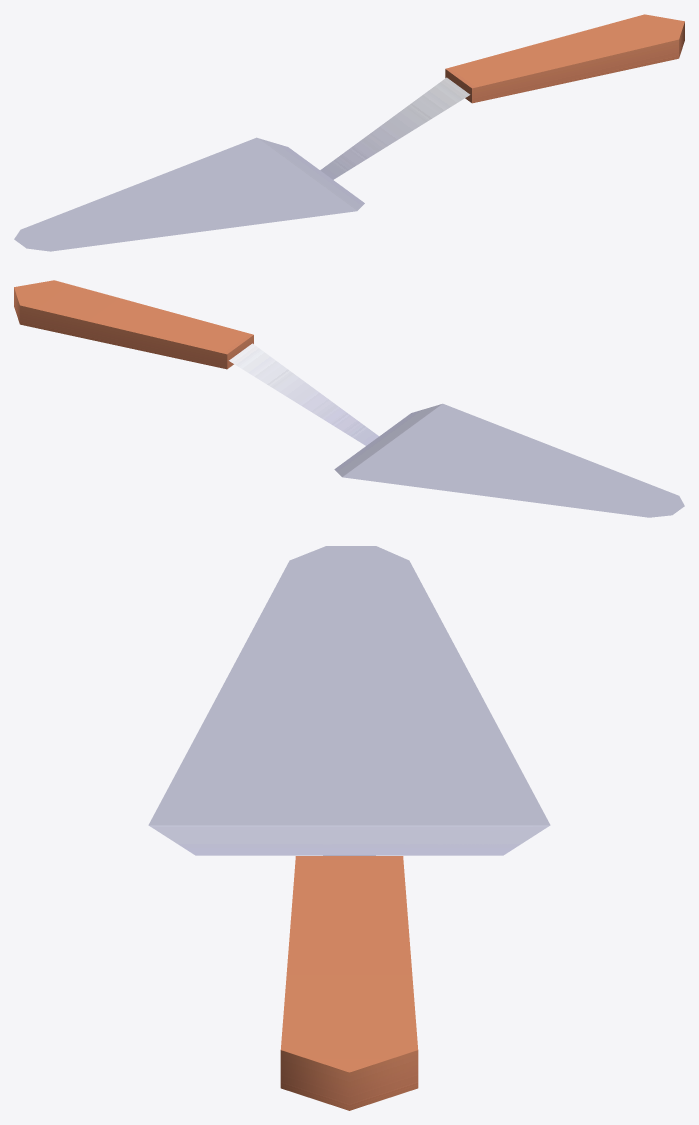
File: cake-slicer.glb
3 views of the same model, one above another, from view 1: azimuth 30°, elevation 25°; view 2: azimuth 150°, elevation 25°; view 3: azimuth 270°, elevation 25° (orthographic). The views are drawn at different scales.
Parts seen in each view (by area): view 1: cake-slicer; view 2: cake-slicer; view 3: cake-slicer.
Boxes of the visible parts, x1,y1,x2,y2 form: cake-slicer: (14,14,684,251); cake-slicer: (14,280,684,517); cake-slicer: (148,546,550,1110).
Size of the model in its own units: 0.7246 by 0.0693 by 0.19.
1 material, 1 textured.
